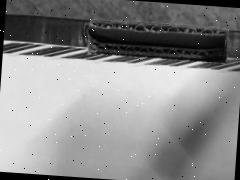cardboard: (1, 5, 240, 93)
